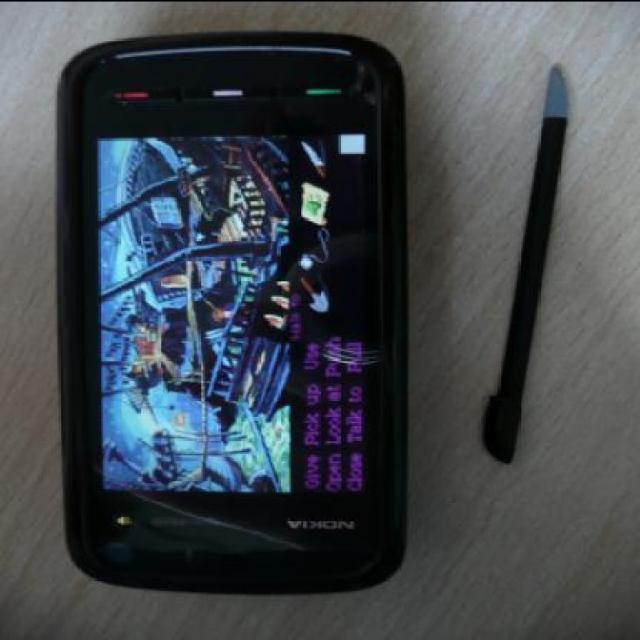phone: (34, 50, 405, 616)
